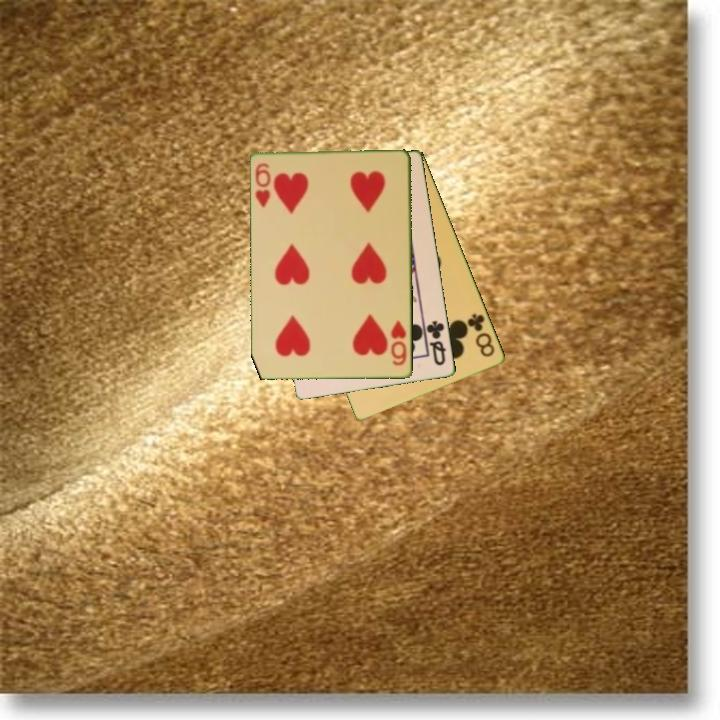6h: (388, 317, 410, 369), (252, 160, 274, 211)
8c: (464, 310, 498, 360)
Qc: (421, 317, 449, 369)
